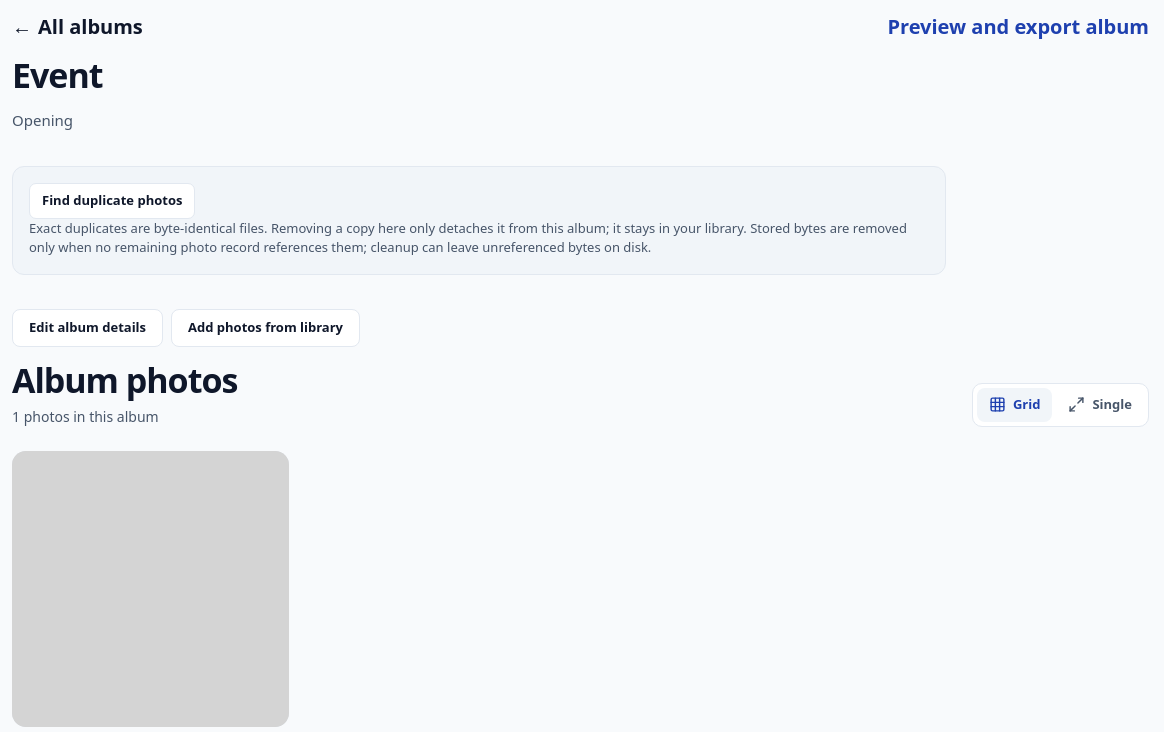
it: details and adding library photos use the save handlers and show errors
Later steps or results of the test are not shown.
Click the button "Edit album details" at (88, 328), box [12,309,163,347]
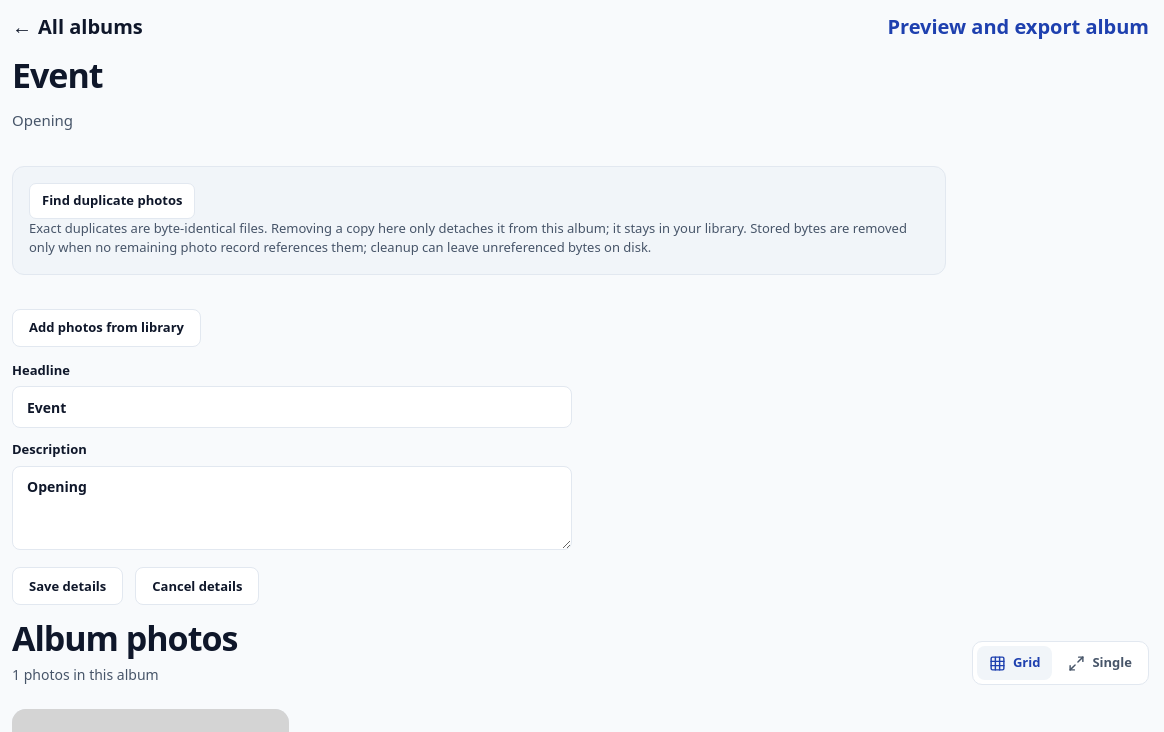
Replace the text in the field labelled "Headline" with "New headline" at (292, 407), box [12,386,572,428]
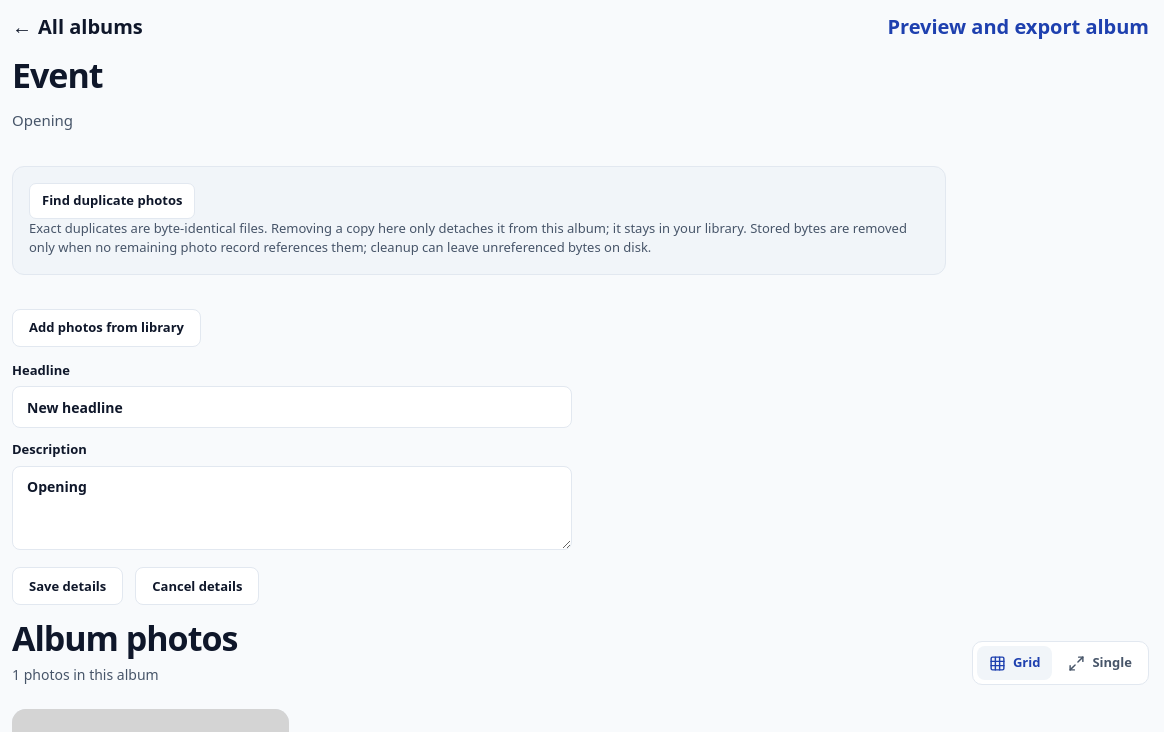
Click the button "Save details" at (68, 586), box [12,567,123,605]
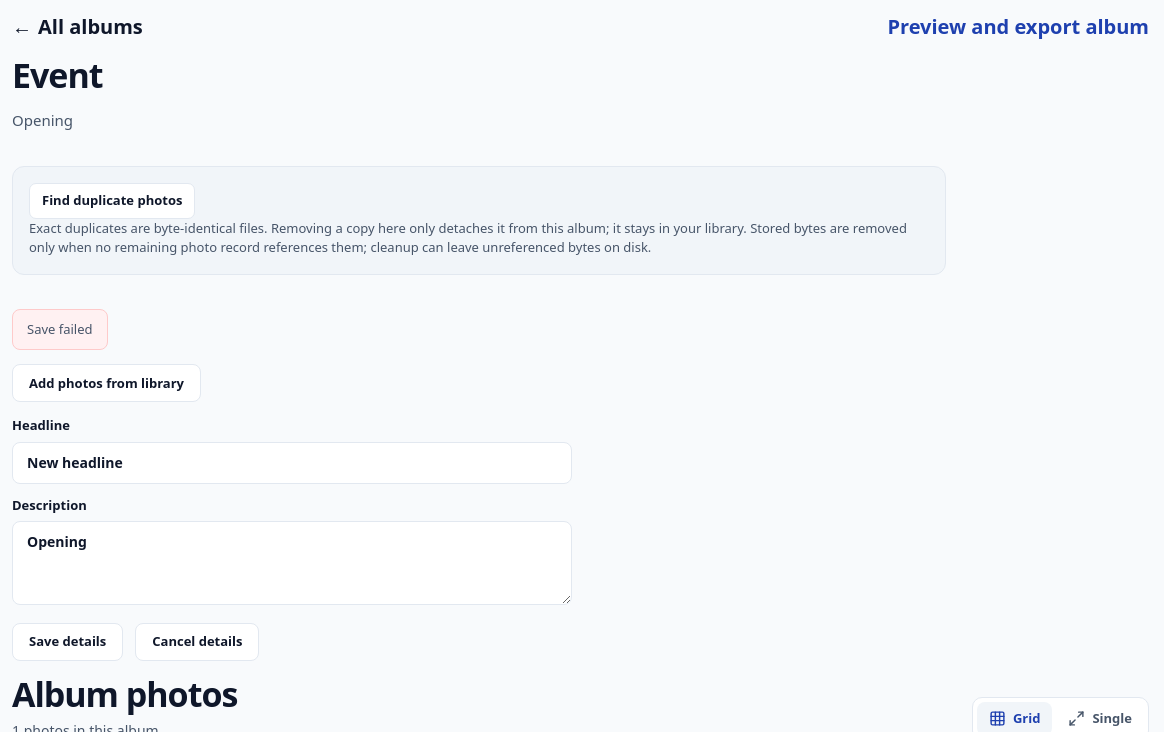
Result: the message reads "Save failed" at [27,320,92,338]
Click the button "Add photos from library" at (106, 383), box [12,364,201,402]
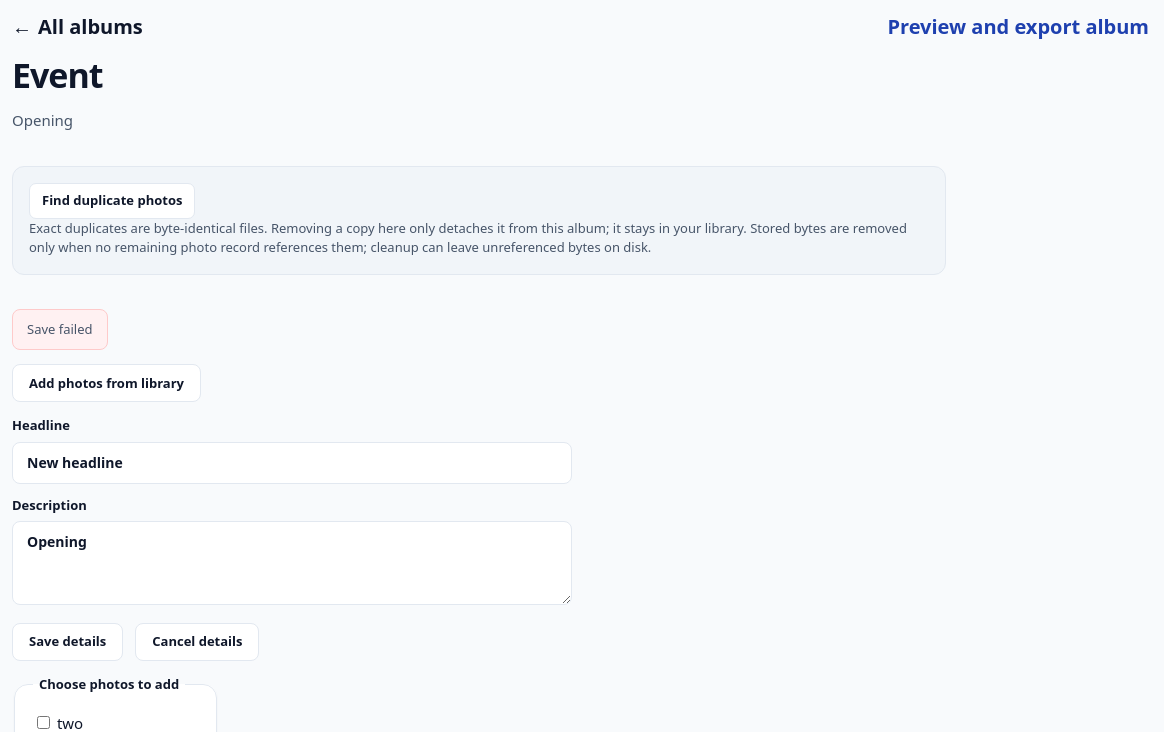
Result: the number of checkboxes is 1 at [37,716,50,729]
